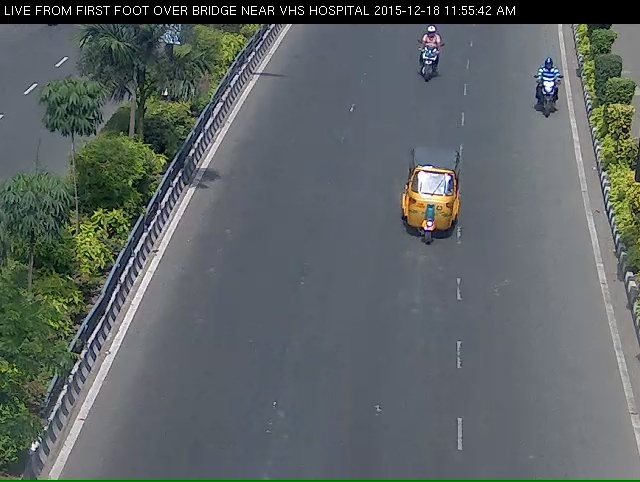Car: (388, 149, 475, 282)
Person: (407, 25, 445, 98), (532, 60, 565, 132)
